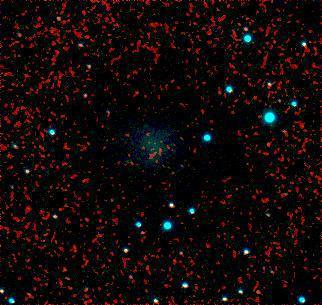star: (253, 128, 283, 158)
